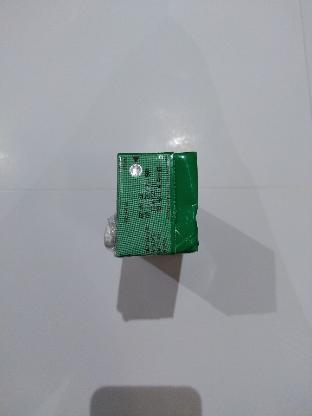Others: (102, 149, 200, 257)
